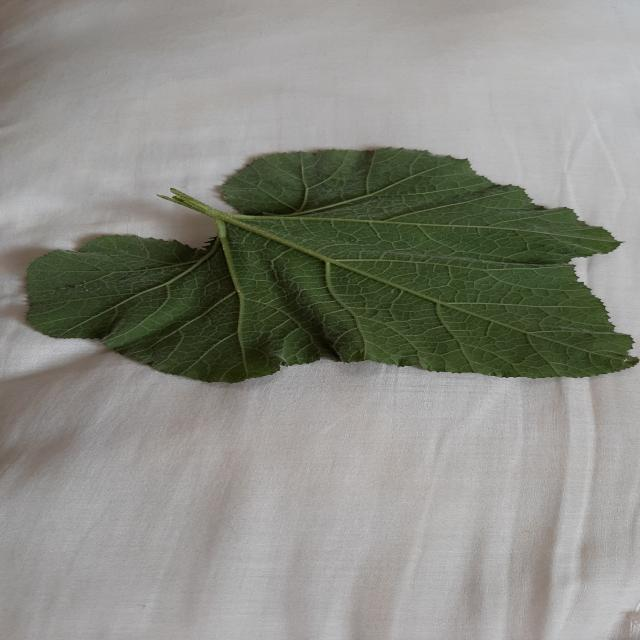pumpkin: (27, 148, 637, 382)
